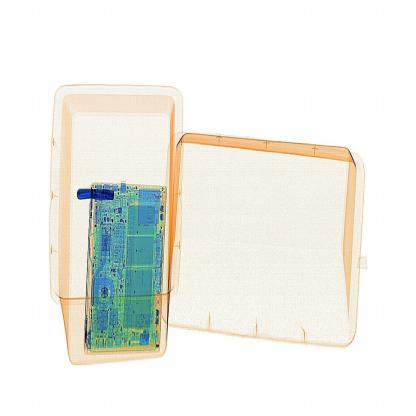knife: (71, 188, 118, 206)
